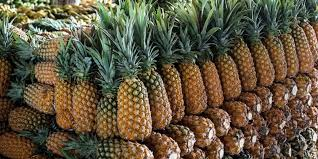pineapple: (114, 79, 150, 143), (179, 62, 207, 116), (291, 27, 316, 76), (72, 84, 96, 135), (264, 36, 289, 84), (53, 79, 75, 133), (217, 54, 242, 101)
